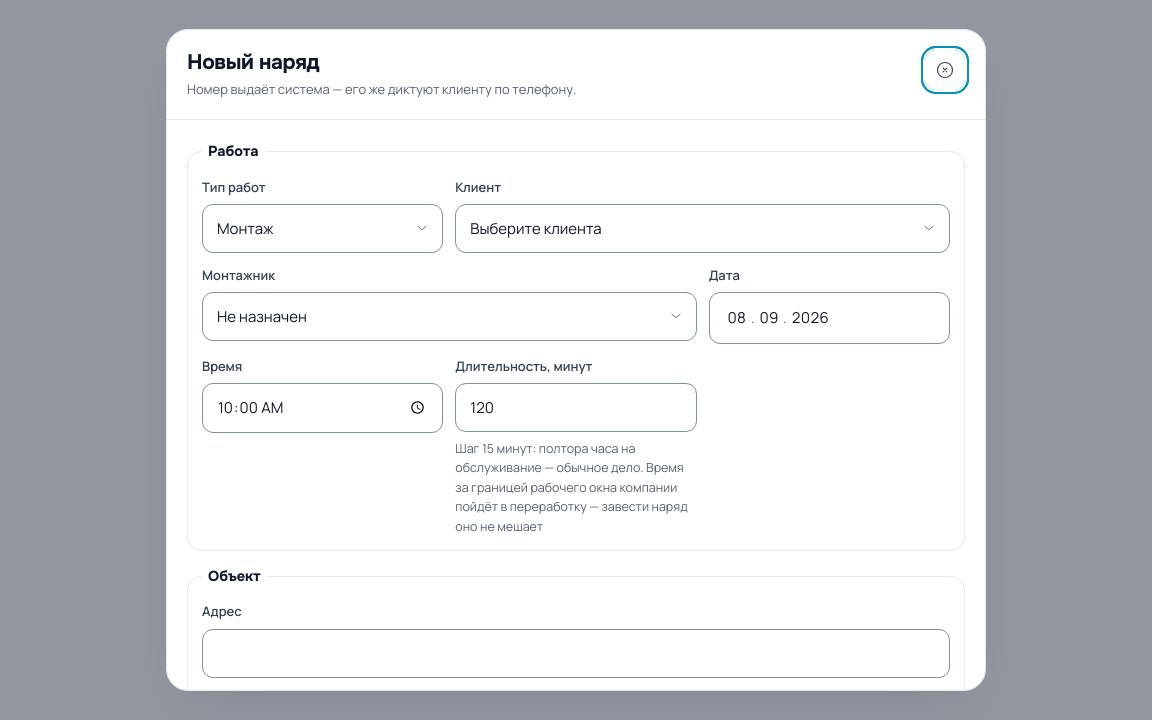
Test: Окно заведения наряда › 🔴 первый же выбор монтажника не пропадает
The image size is (1152, 720).
Select "Дмитрий Соколов" in the dropdown labelled "Монтажник" at [449, 316], box [202,292,697,341]
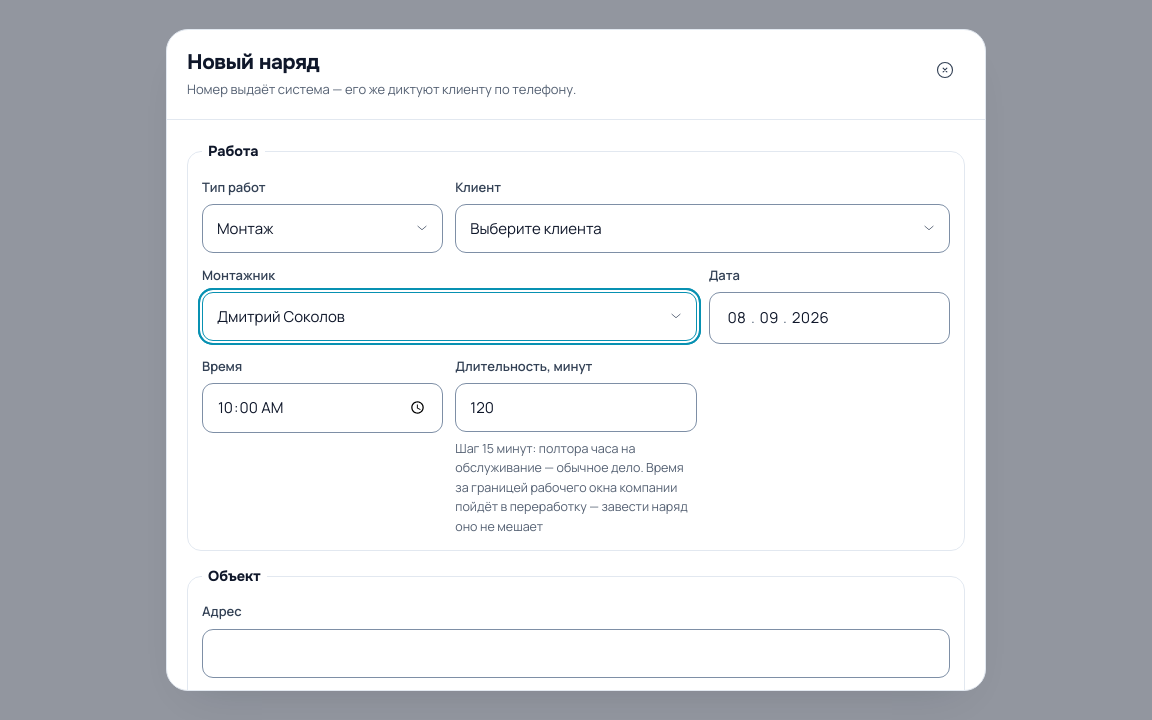
Press Escape
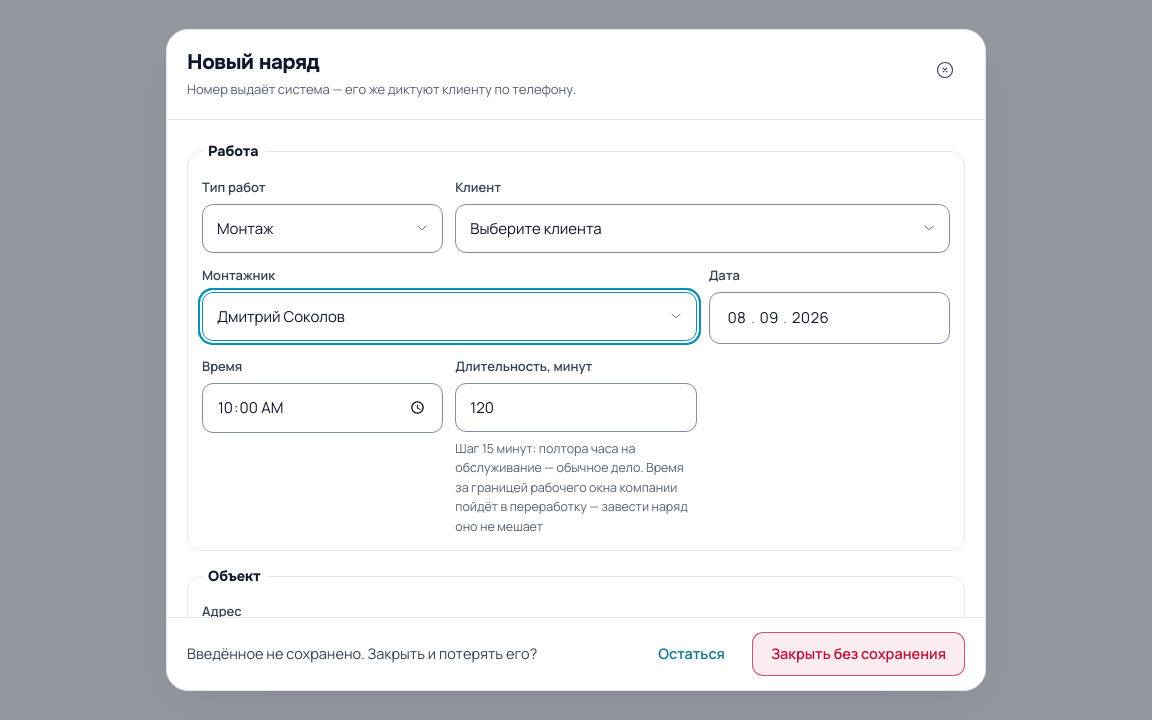
Check: the dialog is shown, box [187,632,965,676]
